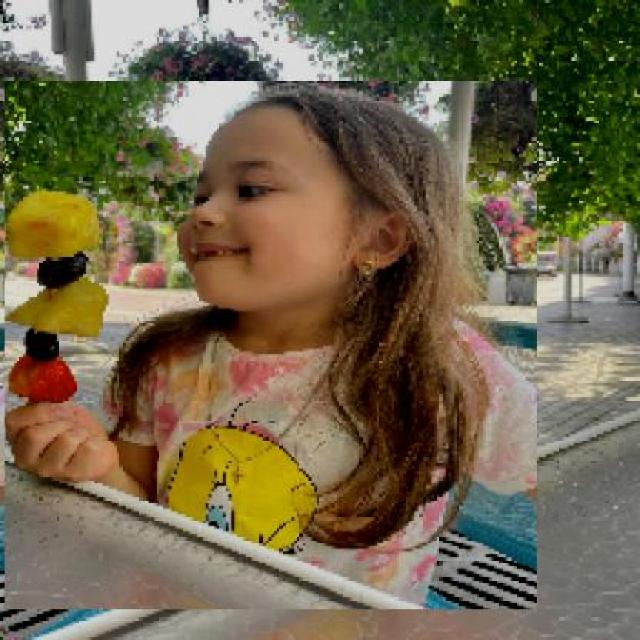child: (3, 80, 537, 611)
